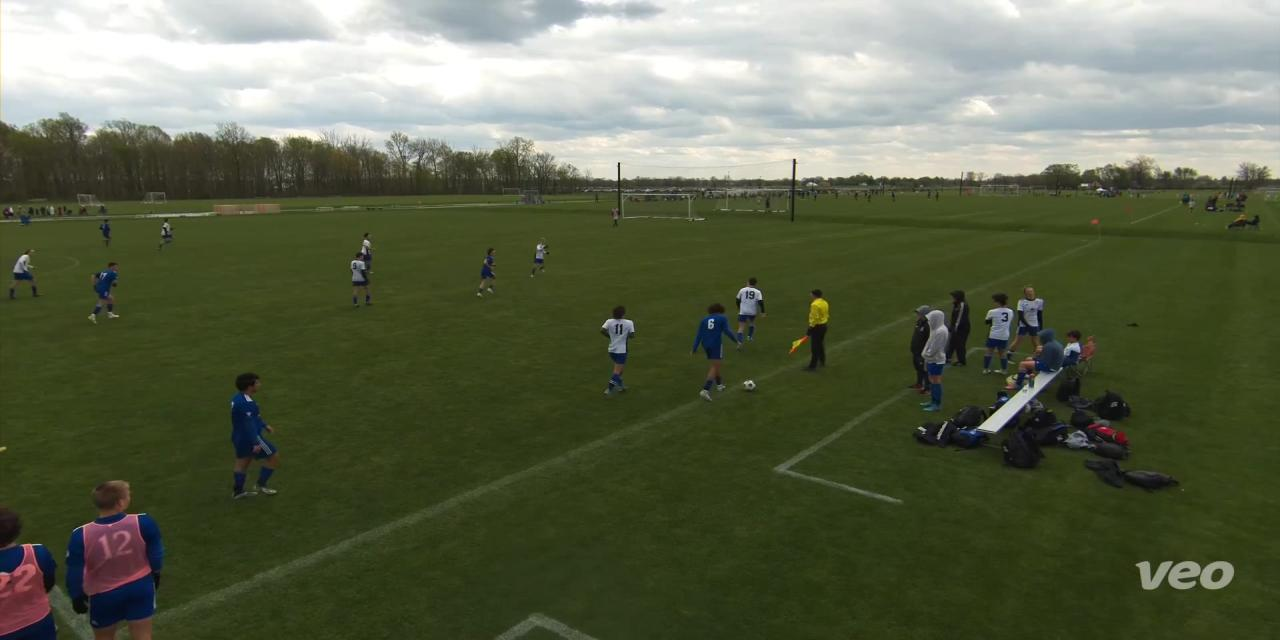goal: (613, 188, 719, 228)
sports ball: (738, 375, 758, 395)
